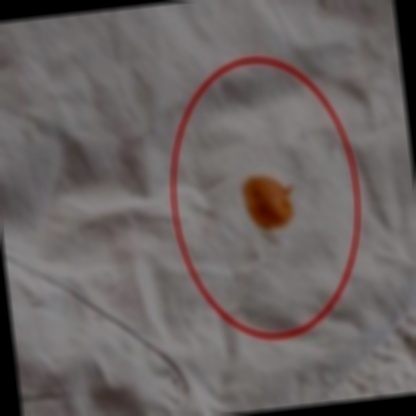kimchi: (230, 164, 314, 243)
